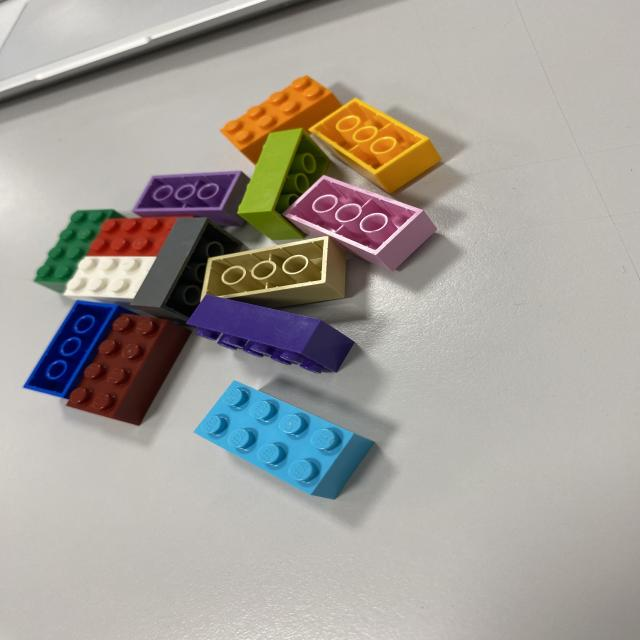C4x2x1: (196, 381, 373, 501), (289, 177, 439, 269), (71, 314, 189, 426), (313, 97, 445, 192), (23, 300, 116, 399), (223, 72, 331, 149), (195, 323, 357, 372), (203, 241, 330, 297), (134, 217, 206, 305), (32, 209, 116, 282), (238, 131, 302, 213), (132, 173, 246, 209), (89, 217, 188, 256), (65, 257, 156, 299), (239, 208, 301, 244), (305, 354, 340, 372)
